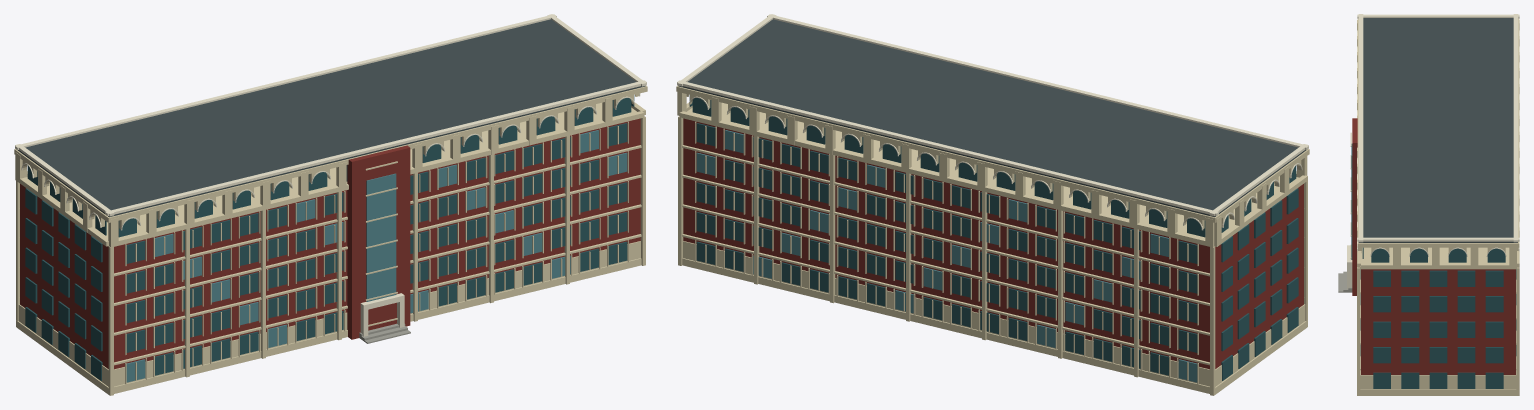
3 views of the same model, side by side, from view 1: azimuth 30°, elevation 25°; view 2: azimuth 150°, elevation 25°; view 3: azimuth 270°, elevation 25° (orthographic). The views are drawn at different scales.
Parts seen in each view (by area): view 1: MainBlock_Roof, MainBlock_Structure, MainBlock_WindowGlass, MainBlock_WindowFrames, MainBlock_Pilasters, MainBlock_CentralBrickPier, MainBlock_RoofCoping, MainBlock_FloorBands, MainBlock_SideWindows, MainBlock_AtticPiers, MainBlock_Plinth, MainBlock_AtticRecess (+8 smaller); view 2: MainBlock_Roof, MainBlock_Structure, MainBlock_WindowGlass, MainBlock_WindowFrames, MainBlock_FloorBands, MainBlock_Pilasters, MainBlock_RoofCoping, MainBlock_SideWindows, MainBlock_AtticPiers, MainBlock_Plinth, MainBlock_AtticRecess, MainBlock_AtticSills (+5 smaller); view 3: MainBlock_Roof, MainBlock_Structure, MainBlock_SideWindows, MainBlock_RoofCoping, MainBlock_Cornice, MainBlock_GroundStonework, MainBlock_Plinth, MainBlock_AtticPiers, MainBlock_AtticFloor, MainBlock_Pilasters, MainBlock_AtticSills, MainBlock_AtticRecess (+6 smaller).
Part boxes in pixels (bbox=[...]): MainBlock_Roof: bbox=[18, 19, 645, 217]; MainBlock_Structure: bbox=[20, 118, 640, 369]; MainBlock_WindowGlass: bbox=[126, 123, 627, 382]; MainBlock_WindowFrames: bbox=[125, 121, 628, 384]; MainBlock_Pilasters: bbox=[16, 116, 645, 395]; MainBlock_CentralBrickPier: bbox=[347, 145, 410, 339]; MainBlock_RoofCoping: bbox=[15, 14, 646, 216]; MainBlock_FloorBands: bbox=[19, 145, 641, 365]; MainBlock_SideWindows: bbox=[25, 188, 102, 380]; MainBlock_AtticPiers: bbox=[15, 97, 612, 247]; MainBlock_Plinth: bbox=[16, 258, 641, 394]; MainBlock_AtticRecess: bbox=[27, 95, 634, 237]; MainBlock_Roof: bbox=[678, 19, 1305, 217]; MainBlock_Structure: bbox=[683, 118, 1303, 369]; MainBlock_WindowGlass: bbox=[696, 123, 1197, 382]; MainBlock_WindowFrames: bbox=[695, 121, 1198, 384]; MainBlock_FloorBands: bbox=[682, 145, 1304, 365]; MainBlock_Pilasters: bbox=[678, 116, 1307, 395]; MainBlock_RoofCoping: bbox=[677, 14, 1308, 216]; MainBlock_SideWindows: bbox=[1221, 188, 1298, 380]; MainBlock_AtticPiers: bbox=[677, 92, 1307, 247]; MainBlock_Plinth: bbox=[682, 258, 1307, 394]; MainBlock_AtticRecess: bbox=[689, 95, 1296, 237]; MainBlock_AtticSills: bbox=[679, 102, 1307, 245]; MainBlock_Roof: bbox=[1358, 18, 1517, 242]; MainBlock_Structure: bbox=[1361, 269, 1515, 374]; MainBlock_SideWindows: bbox=[1373, 270, 1503, 388]; MainBlock_RoofCoping: bbox=[1357, 14, 1519, 242]; MainBlock_Cornice: bbox=[1357, 18, 1519, 247]; MainBlock_GroundStonework: bbox=[1360, 370, 1516, 389]; MainBlock_Plinth: bbox=[1359, 389, 1517, 395]; MainBlock_AtticPiers: bbox=[1357, 20, 1519, 269]; MainBlock_AtticFloor: bbox=[1360, 247, 1509, 269]; MainBlock_Pilasters: bbox=[1357, 255, 1519, 395]; MainBlock_AtticSills: bbox=[1357, 251, 1519, 269]; MainBlock_AtticRecess: bbox=[1362, 247, 1505, 262].
Bounding box in the file's own units: 74.31 × 23.94 × 25.18.
